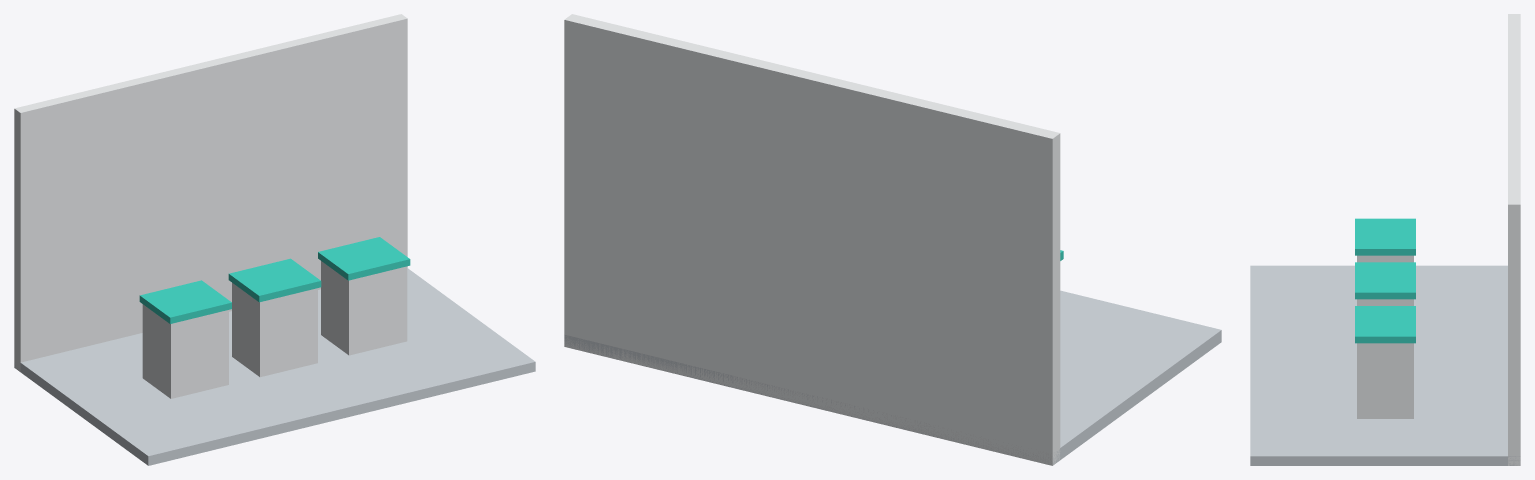
3 renders of one model, left to right at view 1: azimuth 30°, elevation 25°; view 2: azimuth 150°, elevation 25°; view 3: azimuth 270°, elevation 25°, orthographic. The views are drawn at different scales.
Visible parts, largest first — view 1: Exhibition Booth Concept; view 2: Exhibition Booth Concept; view 3: Exhibition Booth Concept.
Boxes of the visible parts, x1,y1,x2,y2 form: Exhibition Booth Concept: (14,14,535,465); Exhibition Booth Concept: (564,14,1221,465); Exhibition Booth Concept: (1250,14,1520,465).
Size of the model in its own units: 5 by 3.2 by 3.
